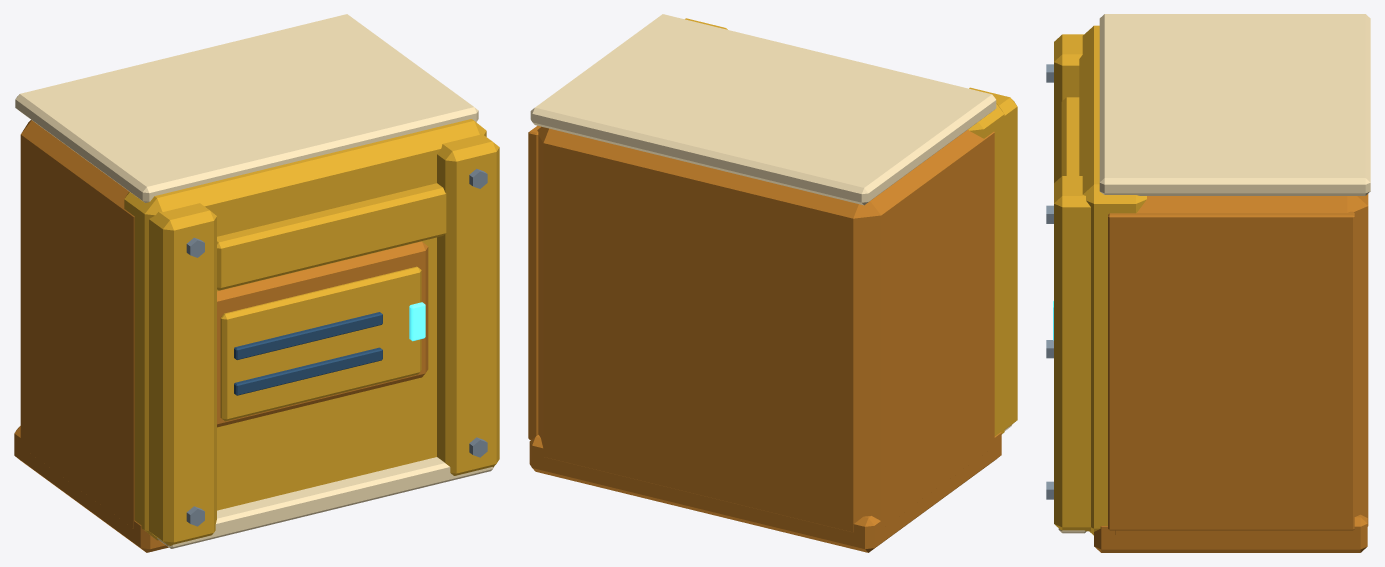
File: beam.glb
3 views of the same model, side by side, from view 1: azimuth 30°, elevation 25°; view 2: azimuth 150°, elevation 25°; view 3: azimuth 270°, elevation 25° (orthographic). The views are drawn at different scales.
Parts seen in each view (by area): view 1: beam__CourierYellow, beam__Cream, beam__Ochre, beam__Cobalt, beam__Metal, beam__CyanGlow; view 2: beam__Ochre, beam__Cream, beam__CourierYellow; view 3: beam__Ochre, beam__Cream, beam__CourierYellow, beam__Metal.
Boxes of the visible parts, bbox=[...] form: beam__CourierYellow: bbox=[124, 119, 499, 545]; beam__Cream: bbox=[15, 14, 493, 548]; beam__Ochre: bbox=[14, 120, 428, 552]; beam__Cobalt: bbox=[234, 312, 382, 395]; beam__Metal: bbox=[186, 168, 487, 526]; beam__CyanGlow: bbox=[409, 302, 425, 341]; beam__Ochre: bbox=[528, 125, 1001, 552]; beam__Cream: bbox=[530, 14, 1011, 430]; beam__CourierYellow: bbox=[685, 18, 1017, 436]; beam__Ochre: bbox=[1094, 194, 1368, 552]; beam__Cream: bbox=[1058, 14, 1370, 533]; beam__CourierYellow: bbox=[1054, 25, 1146, 535]; beam__Metal: bbox=[1046, 64, 1053, 499].
Size of the model in its own units: 0.983 by 0.9835 by 0.773.
